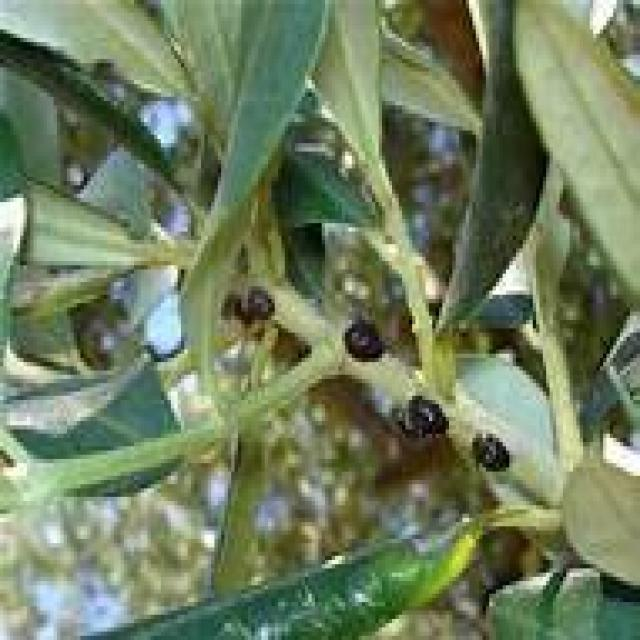BlackScale: (396, 392, 446, 438), (469, 430, 509, 476), (345, 316, 382, 358)
